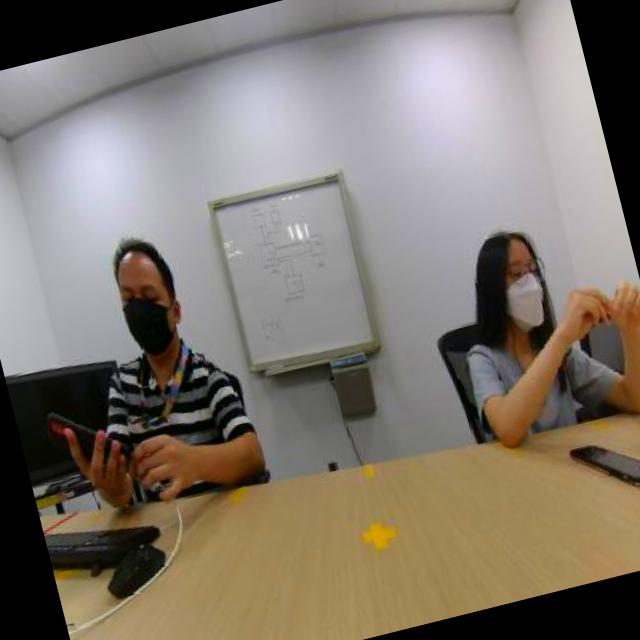Person: (56, 187, 262, 494), (409, 175, 640, 440)
